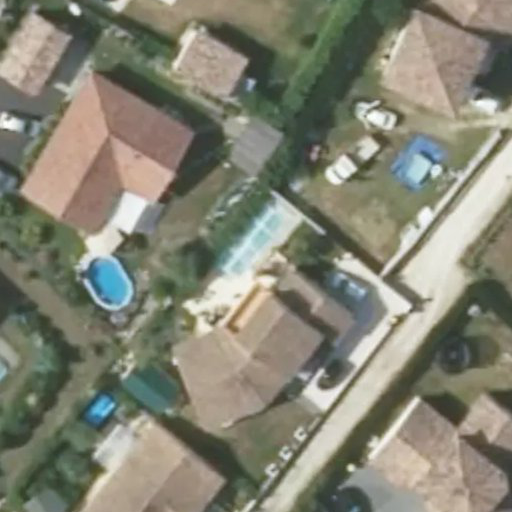pool: (215, 194, 292, 275), (81, 254, 131, 310), (83, 391, 121, 429)
